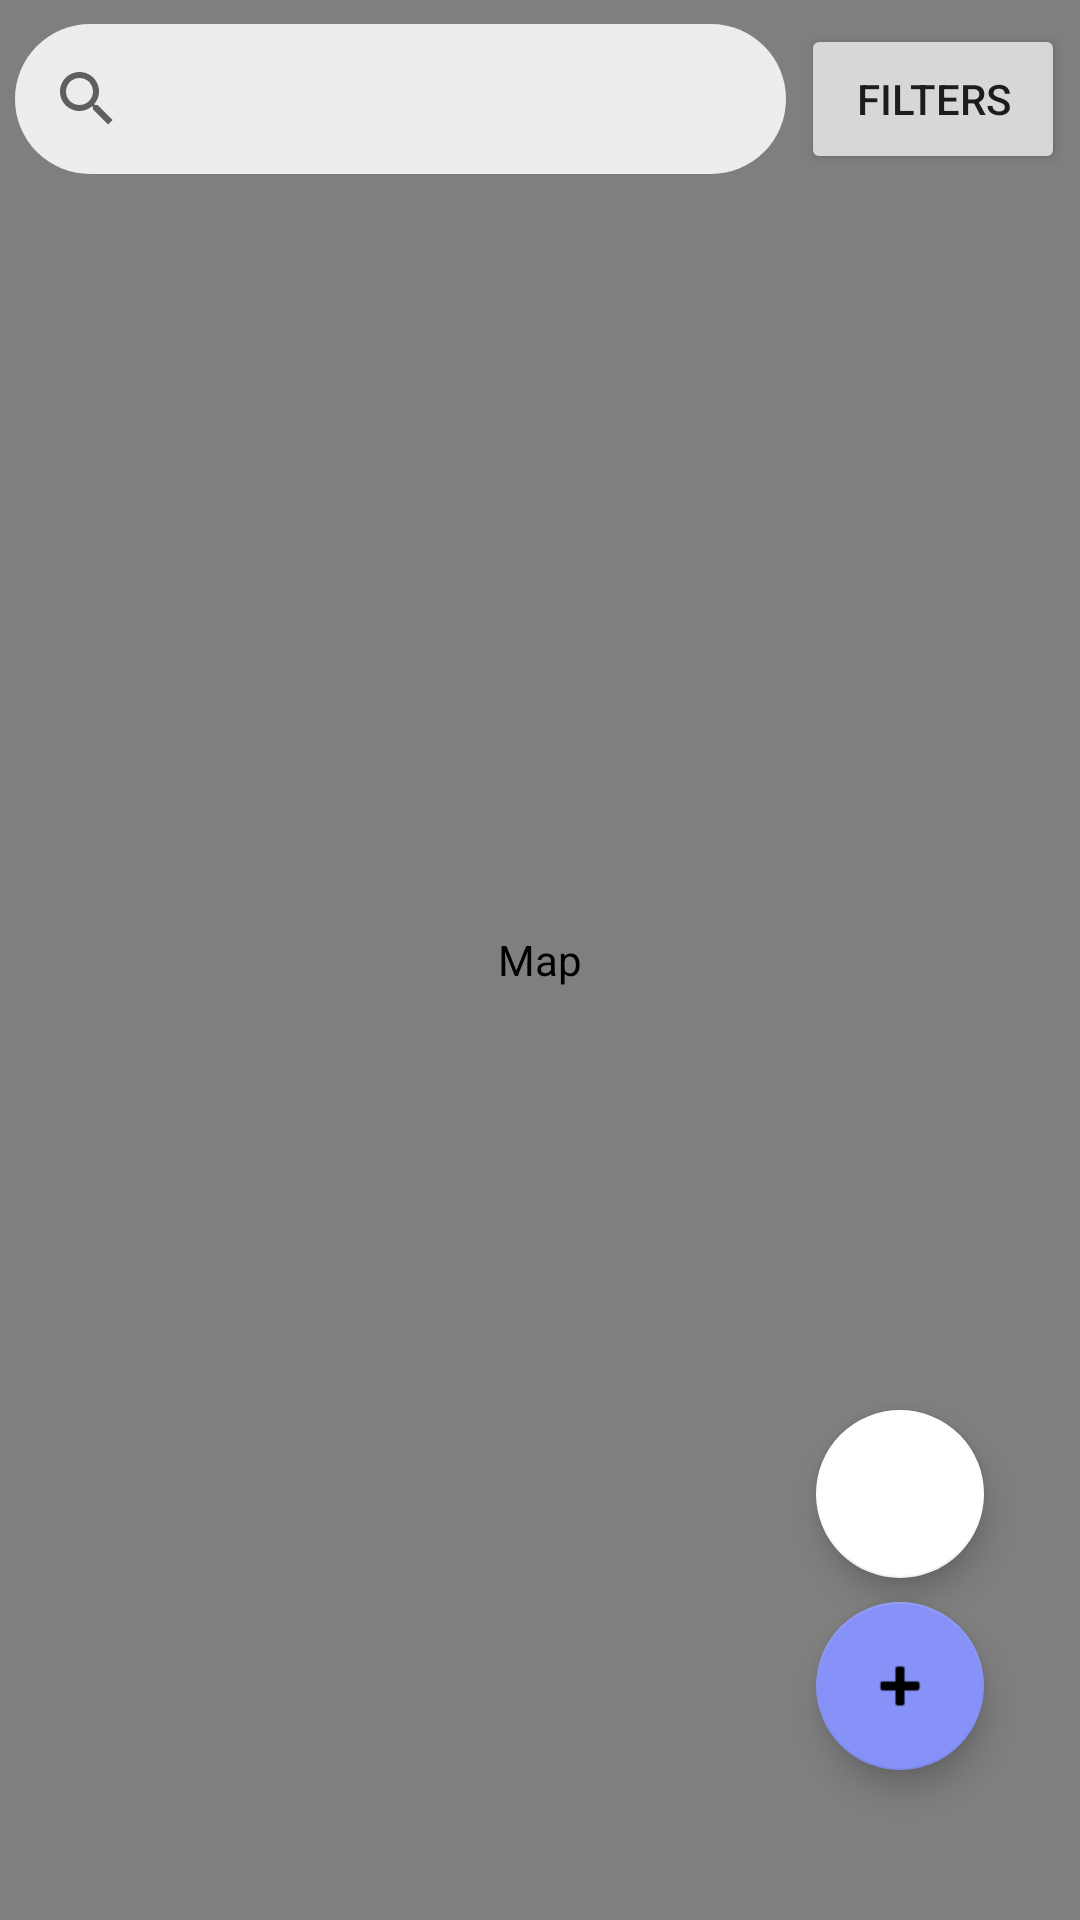

Icons on this 1080 × 1920 Android screen, each with the point to tap as (x,y):
add: (900,1686)
